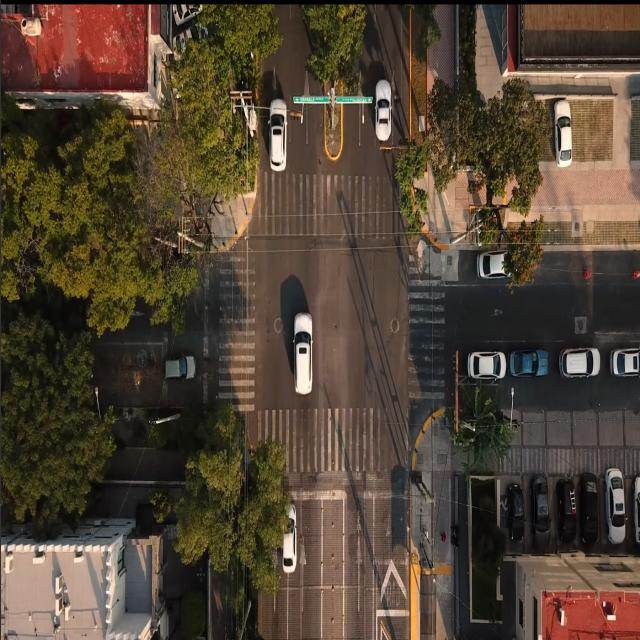cars: (604, 466, 627, 544), (292, 311, 313, 395), (529, 473, 551, 551), (267, 98, 287, 172), (504, 480, 526, 545), (582, 472, 600, 546), (559, 346, 600, 378), (553, 98, 572, 167), (556, 477, 577, 539), (508, 348, 548, 378), (467, 350, 506, 380), (374, 79, 392, 142), (476, 249, 511, 279), (282, 503, 296, 573), (610, 346, 639, 376), (164, 354, 196, 380), (632, 474, 640, 544)
